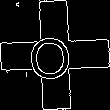O_N: (33, 29, 77, 81)
